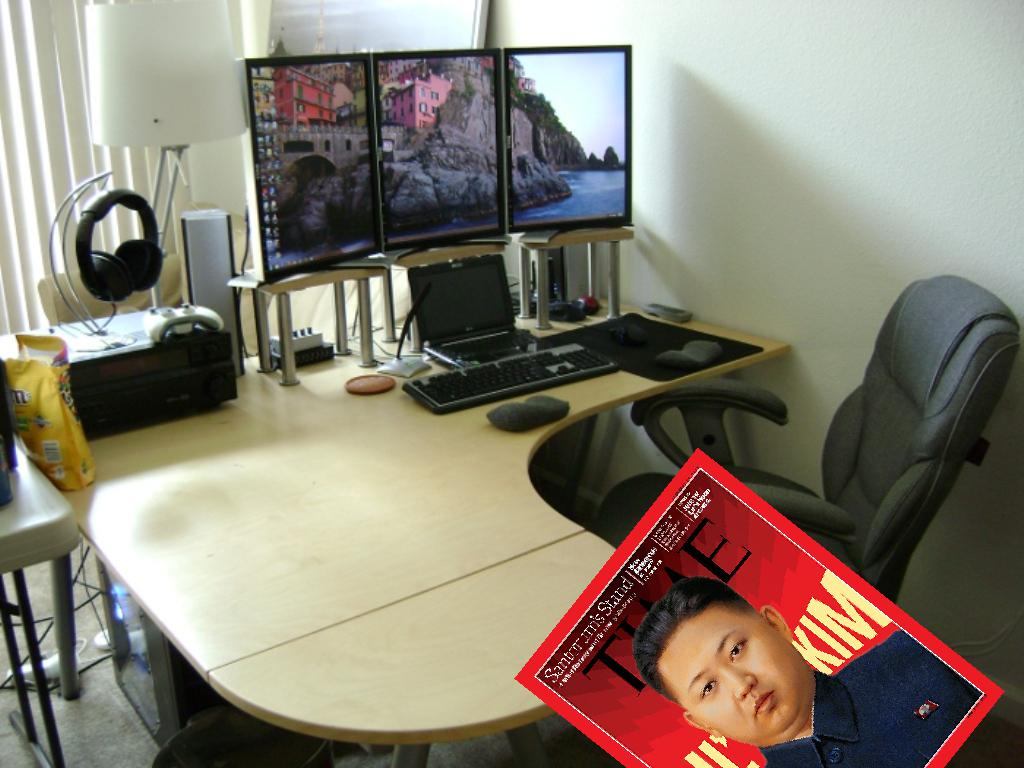times: (505, 445, 1004, 768)
